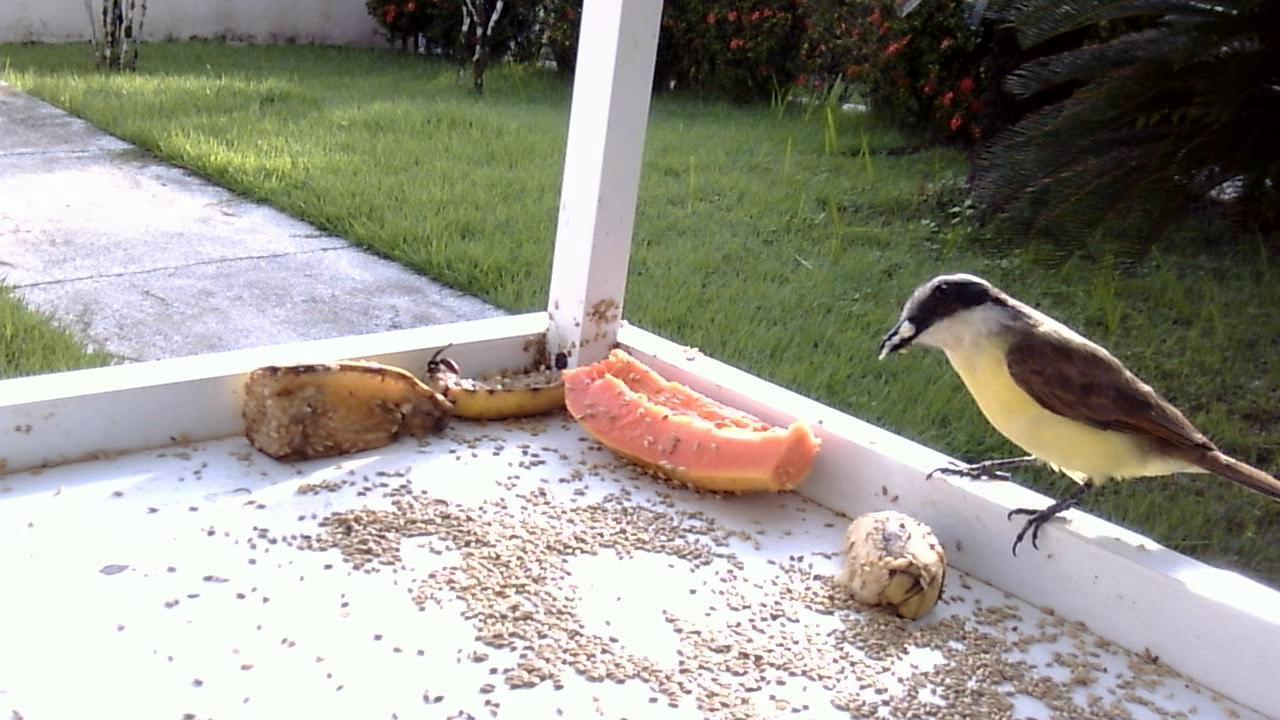bem_te_vi: (864, 255, 1280, 585)
